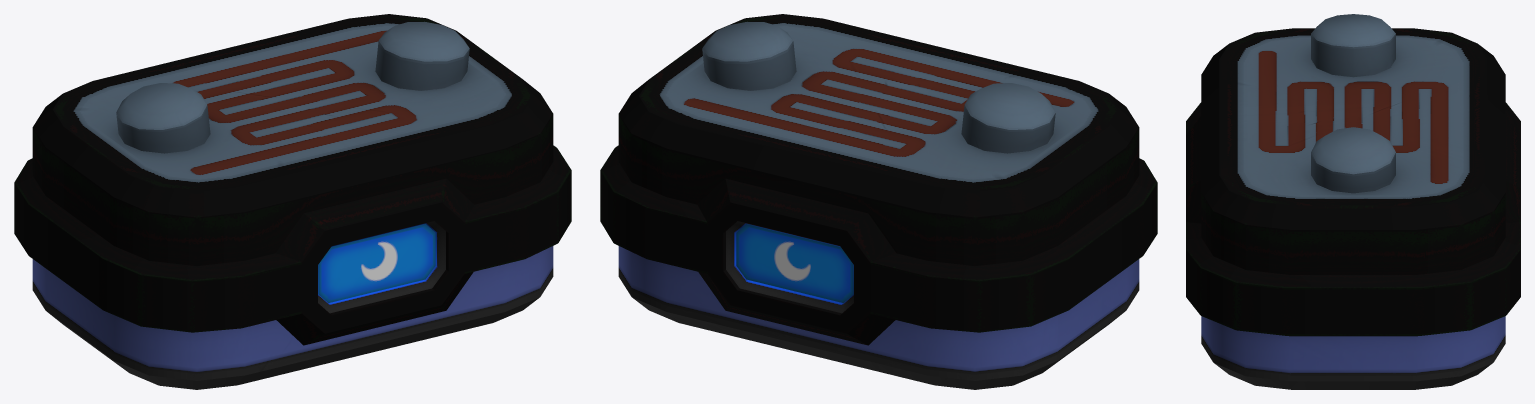
The model's file is obj_factory_photodiode_01_on.fbx.
The picture shows the model from 3 angles, left to right: view 1: azimuth 30°, elevation 25°; view 2: azimuth 150°, elevation 25°; view 3: azimuth 270°, elevation 25°; orthographic projection. The views are drawn at different scales.
Parts seen in each view (by area): view 1: obj_factory_photodiode_01_lp; view 2: obj_factory_photodiode_01_lp; view 3: obj_factory_photodiode_01_lp.
Part boxes in pixels (x1,y1,x2,y2): obj_factory_photodiode_01_lp: [14, 14, 571, 389]; obj_factory_photodiode_01_lp: [600, 14, 1157, 389]; obj_factory_photodiode_01_lp: [1186, 14, 1520, 389].
Size of the model in its own units: 4.79 by 2.4 by 3.3.
